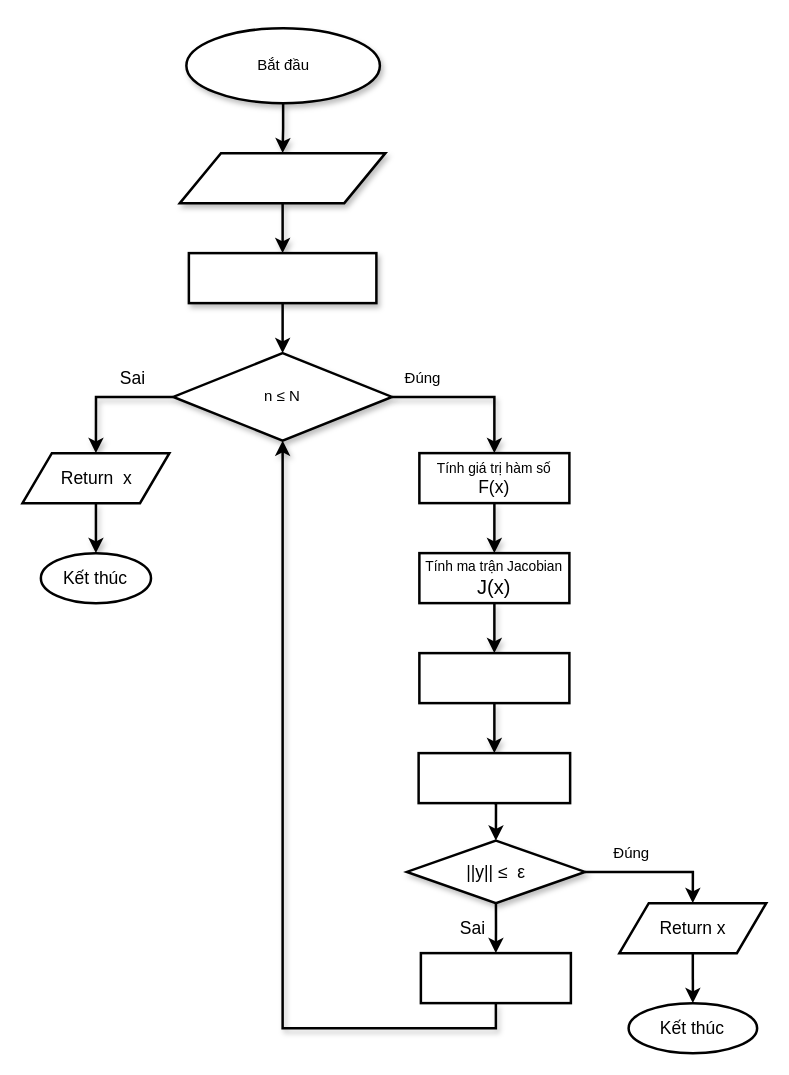
Some shapes in this 789 by 1075 pixel diagram are drawn without their labels. The centre of each missing label's shape, as x and y in pixels:
"Cập nhật vector nghiệm x = x - y" belongs at [494,777].
"n = 1" belongs at [283,279].
"n = n + 1" belongs at [495,977].
"Tính giá trị vector y J(x) y = F(x)" belongs at [494,677].
"x, ε , N" belongs at [283,179].
